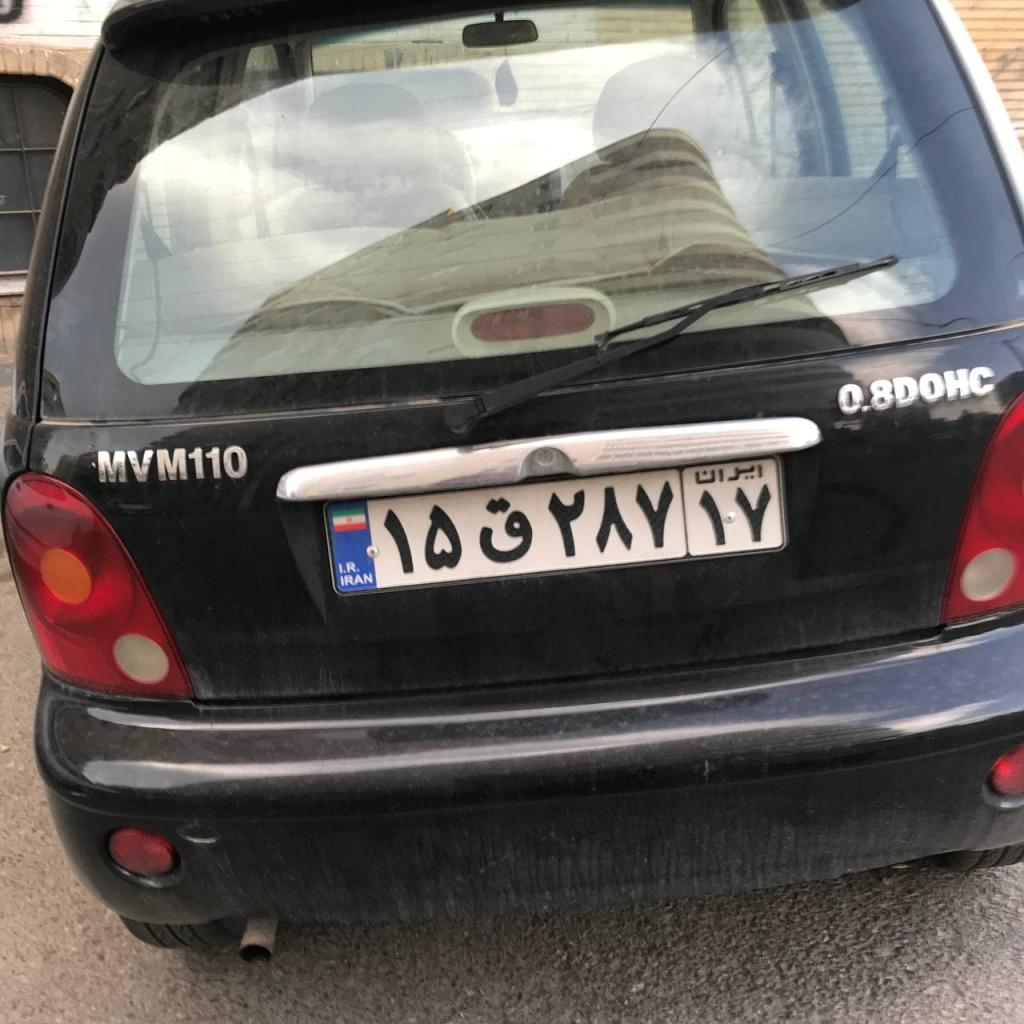Plates: (326, 457, 785, 594)
